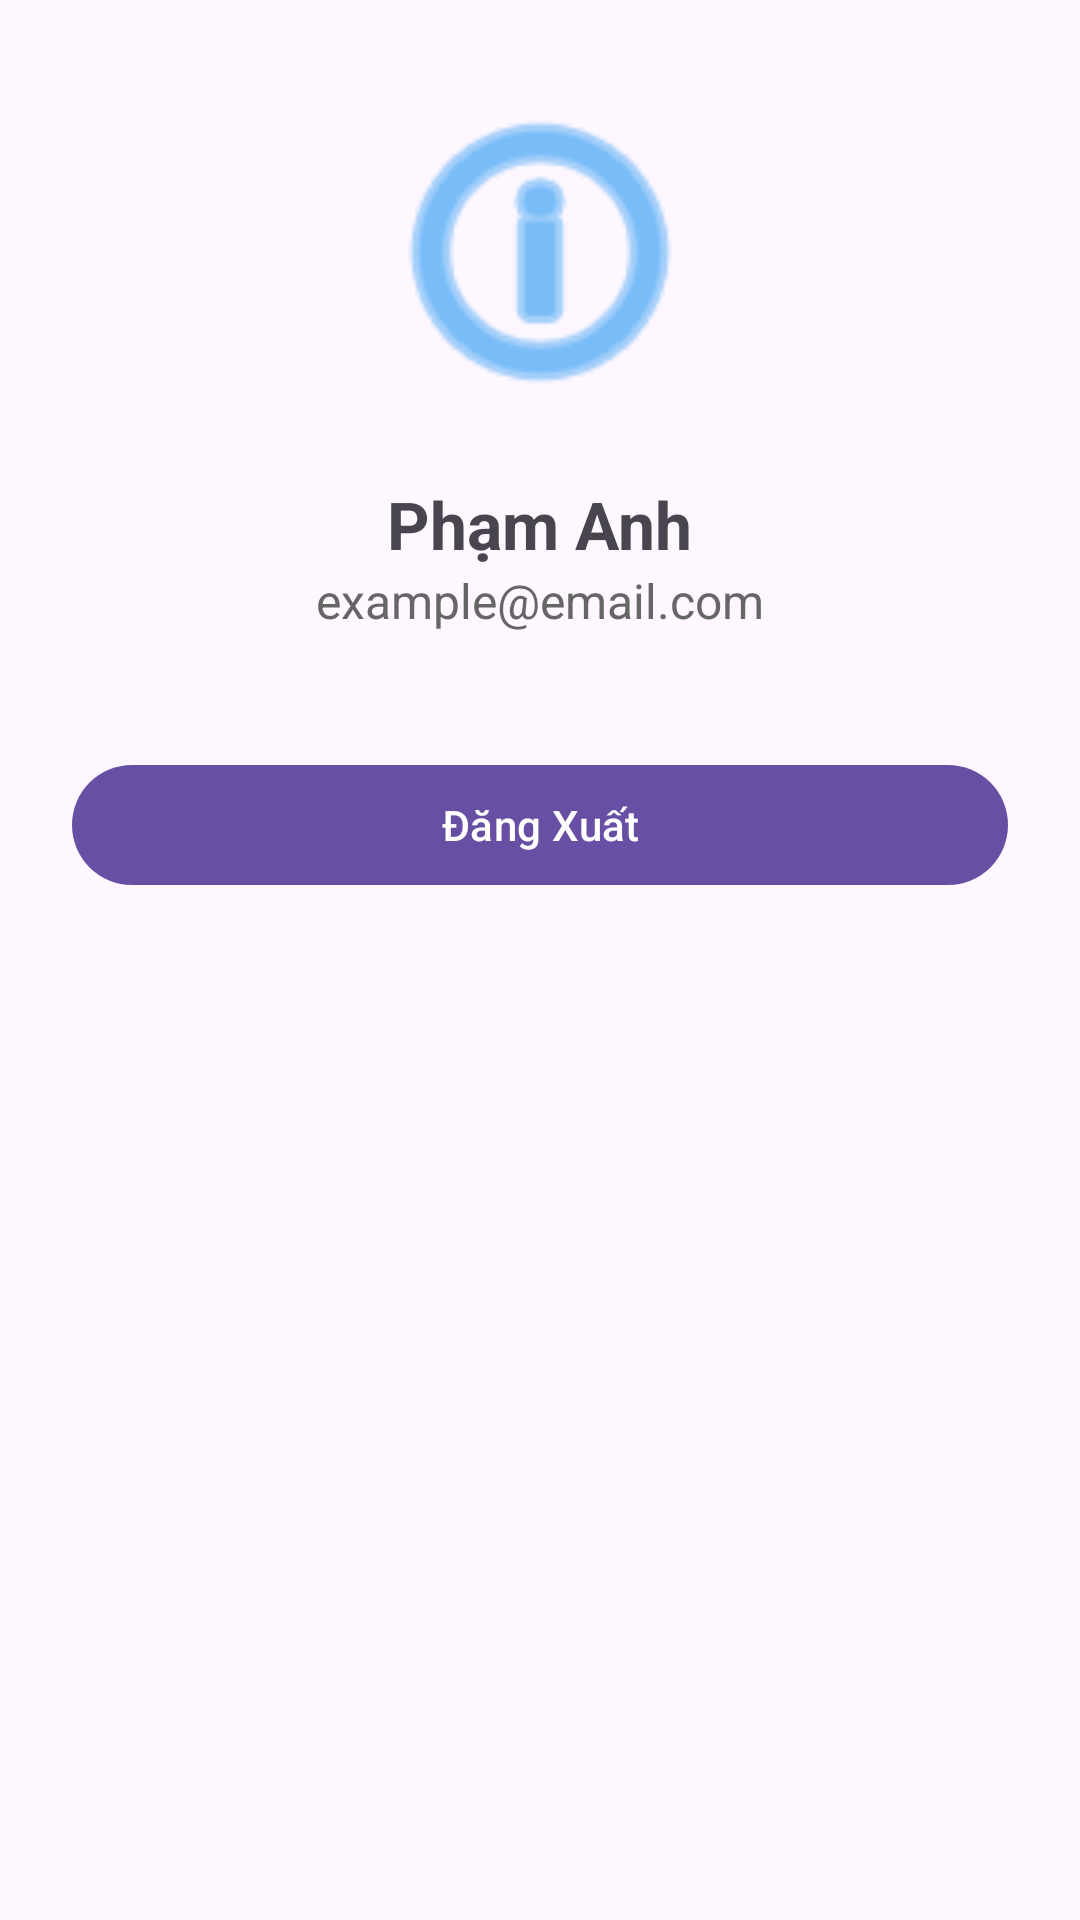

Screen size 1080 × 1920. Icon name, then its box in pixels as region(x1, y1, x2, y2):
info details: region(410, 123, 670, 382)
